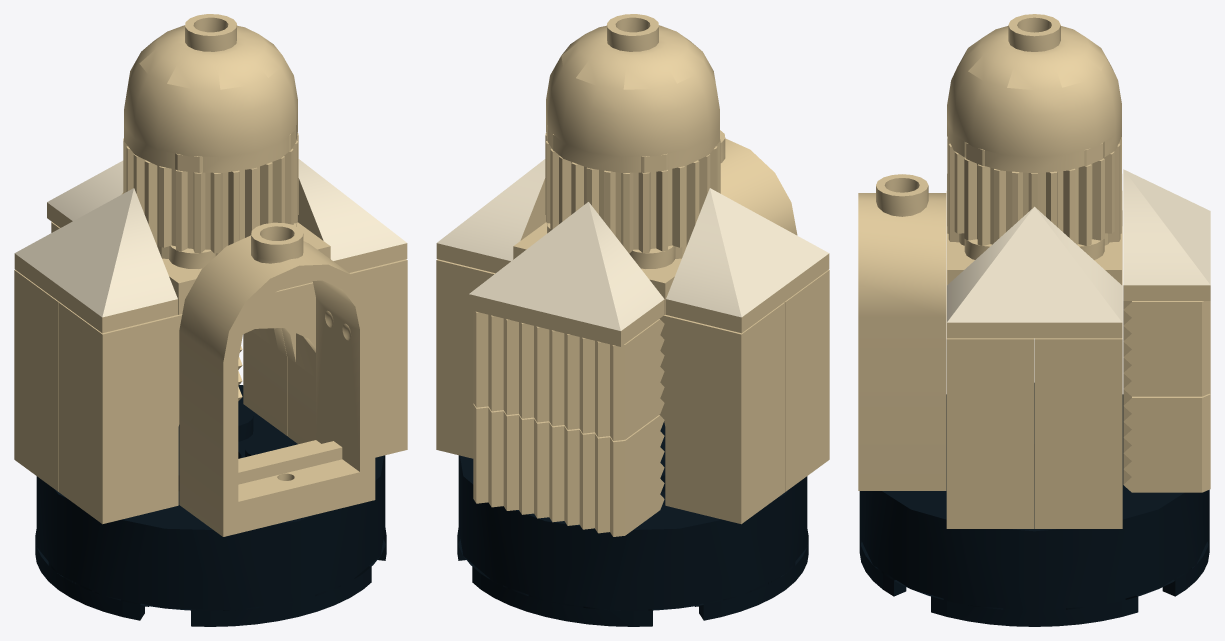
3 renders of one model, left to right at view 1: azimuth 30°, elevation 25°; view 2: azimuth 150°, elevation 25°; view 3: azimuth 270°, elevation 25°, orthographic.
Visible parts, largest first — view 1: Inner-Node-topPS_dot_io-12.001, Inner-Node-topPS_dot_io-0.001, Inner-Node-topPS_dot_io-1.001, Inner-Node-topPS_dot_io-5.001, Inner-Node-topPS_dot_io-8.001, Inner-Node-topPS_dot_io-6.001, Inner-Node-topPS_dot_io-2.001, Inner-Node-topPS_dot_io-9.001, Inner-Node-topPS_dot_io-7.001, Inner-Node-topPS_dot_io-11.001; view 2: Inner-Node-topPS_dot_io-0.001, Inner-Node-topPS_dot_io-2.001, Inner-Node-topPS_dot_io-5.001, Inner-Node-topPS_dot_io-3.001, Inner-Node-topPS_dot_io-4.001, Inner-Node-topPS_dot_io-7.001, Inner-Node-topPS_dot_io-8.001, Inner-Node-topPS_dot_io-6.001, Inner-Node-topPS_dot_io-1.001, Inner-Node-topPS_dot_io-9.001, Inner-Node-topPS_dot_io-12.001, Inner-Node-topPS_dot_io-10.001; view 3: Inner-Node-topPS_dot_io-0.001, Inner-Node-topPS_dot_io-12.001, Inner-Node-topPS_dot_io-5.001, Inner-Node-topPS_dot_io-1.001, Inner-Node-topPS_dot_io-2.001, Inner-Node-topPS_dot_io-9.001, Inner-Node-topPS_dot_io-6.001, Inner-Node-topPS_dot_io-7.001, Inner-Node-topPS_dot_io-3.001, Inner-Node-topPS_dot_io-4.001, Inner-Node-topPS_dot_io-11.001, Inner-Node-topPS_dot_io-10.001.
Part boxes in pixels (<box>): Inner-Node-topPS_dot_io-12.001: <box>179,222,375,536</box>; Inner-Node-topPS_dot_io-0.001: <box>35,385,386,626</box>; Inner-Node-topPS_dot_io-1.001: <box>58,259,407,524</box>; Inner-Node-topPS_dot_io-5.001: <box>124,14,297,172</box>; Inner-Node-topPS_dot_io-8.001: <box>14,188,177,333</box>; Inner-Node-topPS_dot_io-6.001: <box>123,127,298,258</box>; Inner-Node-topPS_dot_io-2.001: <box>14,270,287,491</box>; Inner-Node-topPS_dot_io-9.001: <box>298,159,407,272</box>; Inner-Node-topPS_dot_io-7.001: <box>47,160,123,227</box>; Inner-Node-topPS_dot_io-11.001: <box>162,222,330,314</box>; Inner-Node-topPS_dot_io-0.001: <box>457,421,808,626</box>; Inner-Node-topPS_dot_io-2.001: <box>436,259,785,524</box>; Inner-Node-topPS_dot_io-5.001: <box>546,14,719,172</box>; Inner-Node-topPS_dot_io-3.001: <box>473,403,664,536</box>; Inner-Node-topPS_dot_io-4.001: <box>473,311,664,440</box>; Inner-Node-topPS_dot_io-7.001: <box>469,202,664,346</box>; Inner-Node-topPS_dot_io-8.001: <box>666,188,829,333</box>; Inner-Node-topPS_dot_io-6.001: <box>545,127,720,258</box>; Inner-Node-topPS_dot_io-1.001: <box>784,270,829,491</box>; Inner-Node-topPS_dot_io-9.001: <box>436,159,545,273</box>; Inner-Node-topPS_dot_io-12.001: <box>659,130,797,418</box>; Inner-Node-topPS_dot_io-10.001: <box>513,222,681,314</box>; Inner-Node-topPS_dot_io-0.001: <box>859,383,1209,626</box>; Inner-Node-topPS_dot_io-12.001: <box>858,174,946,490</box>; Inner-Node-topPS_dot_io-5.001: <box>947,14,1121,173</box>; Inner-Node-topPS_dot_io-1.001: <box>946,191,1034,528</box>; Inner-Node-topPS_dot_io-2.001: <box>1034,191,1122,528</box>; Inner-Node-topPS_dot_io-9.001: <box>947,206,1122,338</box>; Inner-Node-topPS_dot_io-6.001: <box>947,137,1121,246</box>; Inner-Node-topPS_dot_io-7.001: <box>1123,169,1210,300</box>; Inner-Node-topPS_dot_io-3.001: <box>1123,389,1210,492</box>; Inner-Node-topPS_dot_io-4.001: <box>1123,301,1210,396</box>; Inner-Node-topPS_dot_io-11.001: <box>947,233,991,284</box>; Inner-Node-topPS_dot_io-10.001: <box>1077,233,1121,284</box>.
Bounding box in the file's own units: 3.19 × 5.28 × 3.19.
